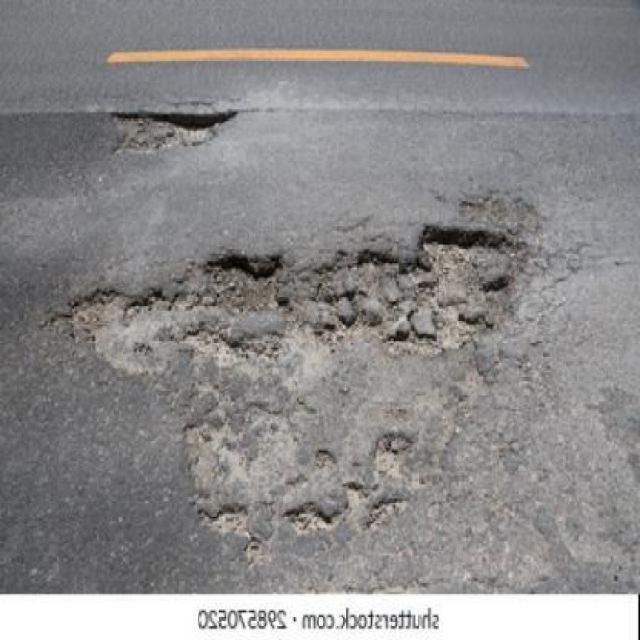pothole: (313, 224, 519, 357), (206, 253, 291, 327), (107, 108, 238, 156)
